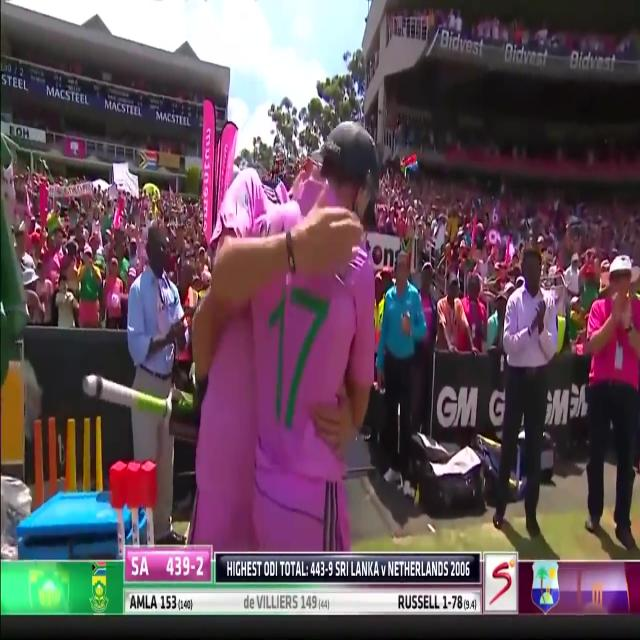Ball: (183, 113, 409, 548)
